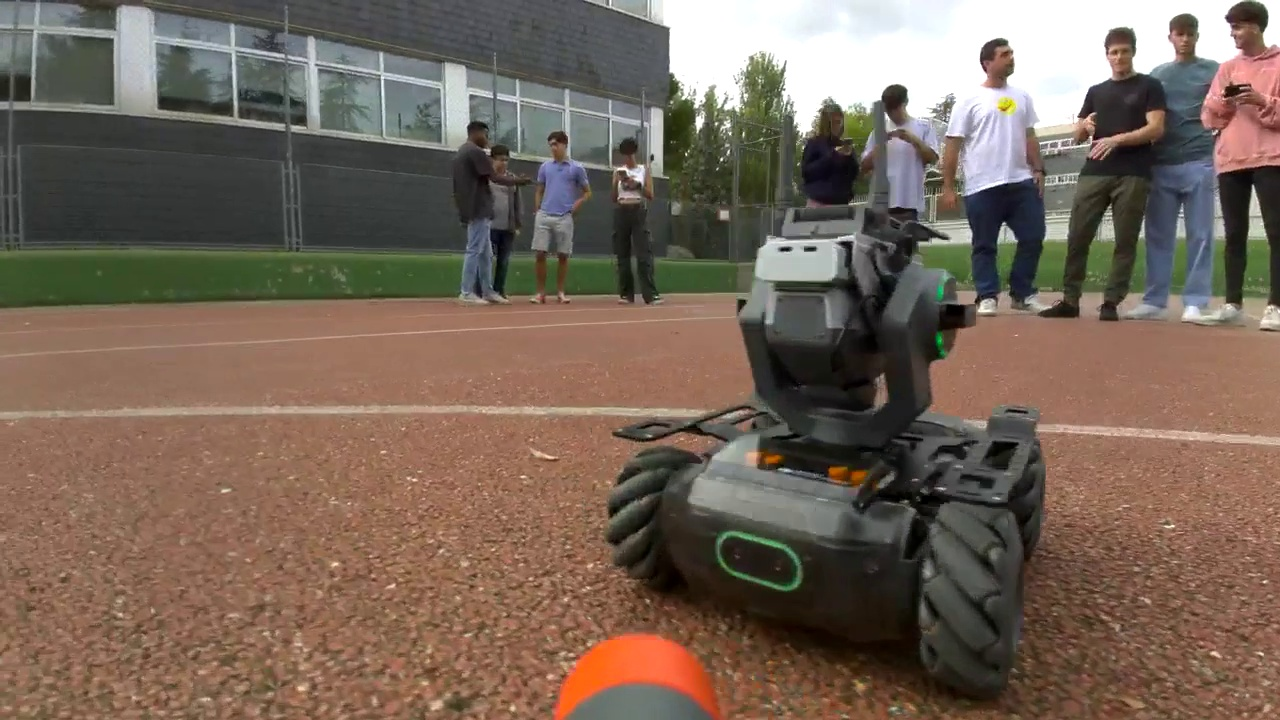robot: (606, 205, 1045, 703)
